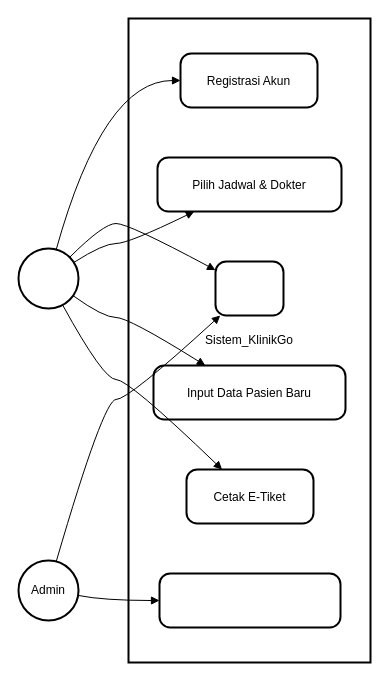
This 388x680 diagram has some shape labels left out. The shapes that lost their labels are listed below. From the top down, each one's box as (x1, y1, x2, y2) in pixels, then its label:
(17, 247, 79, 309): Pasien
(214, 260, 284, 316): Login
(158, 572, 341, 628): Kelola Jadwal Dokter
